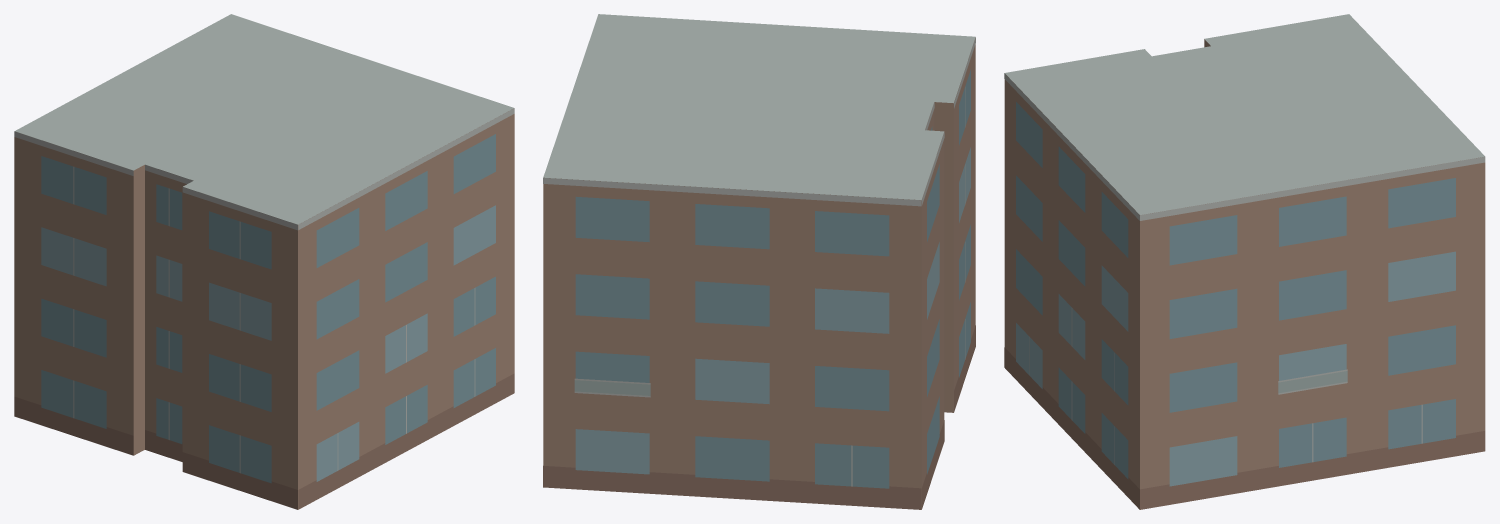
The model's file is survey-upis-32549232.glb.
The picture shows the model from 3 angles, left to right: view 1: azimuth 30°, elevation 25°; view 2: azimuth 150°, elevation 25°; view 3: azimuth 270°, elevation 25°; orthographic projection. The views are drawn at different scales.
Parts seen in each view (by area): view 1: survey-upis-32549232.tmp; view 2: survey-upis-32549232.tmp; view 3: survey-upis-32549232.tmp.
Part boxes in pixels (x1,y1,x2,y2): survey-upis-32549232.tmp: (14, 14, 514, 509); survey-upis-32549232.tmp: (543, 14, 975, 509); survey-upis-32549232.tmp: (1004, 14, 1485, 509).
Size of the model in its own units: 17.87 by 12.2 by 18.05.
